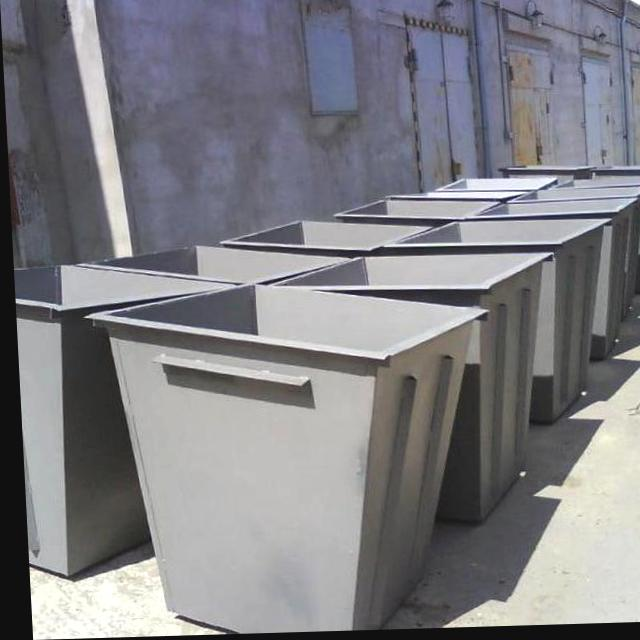Trash_Can_Empty: (78, 286, 481, 634), (283, 255, 551, 522), (11, 266, 214, 575), (376, 222, 609, 427)
